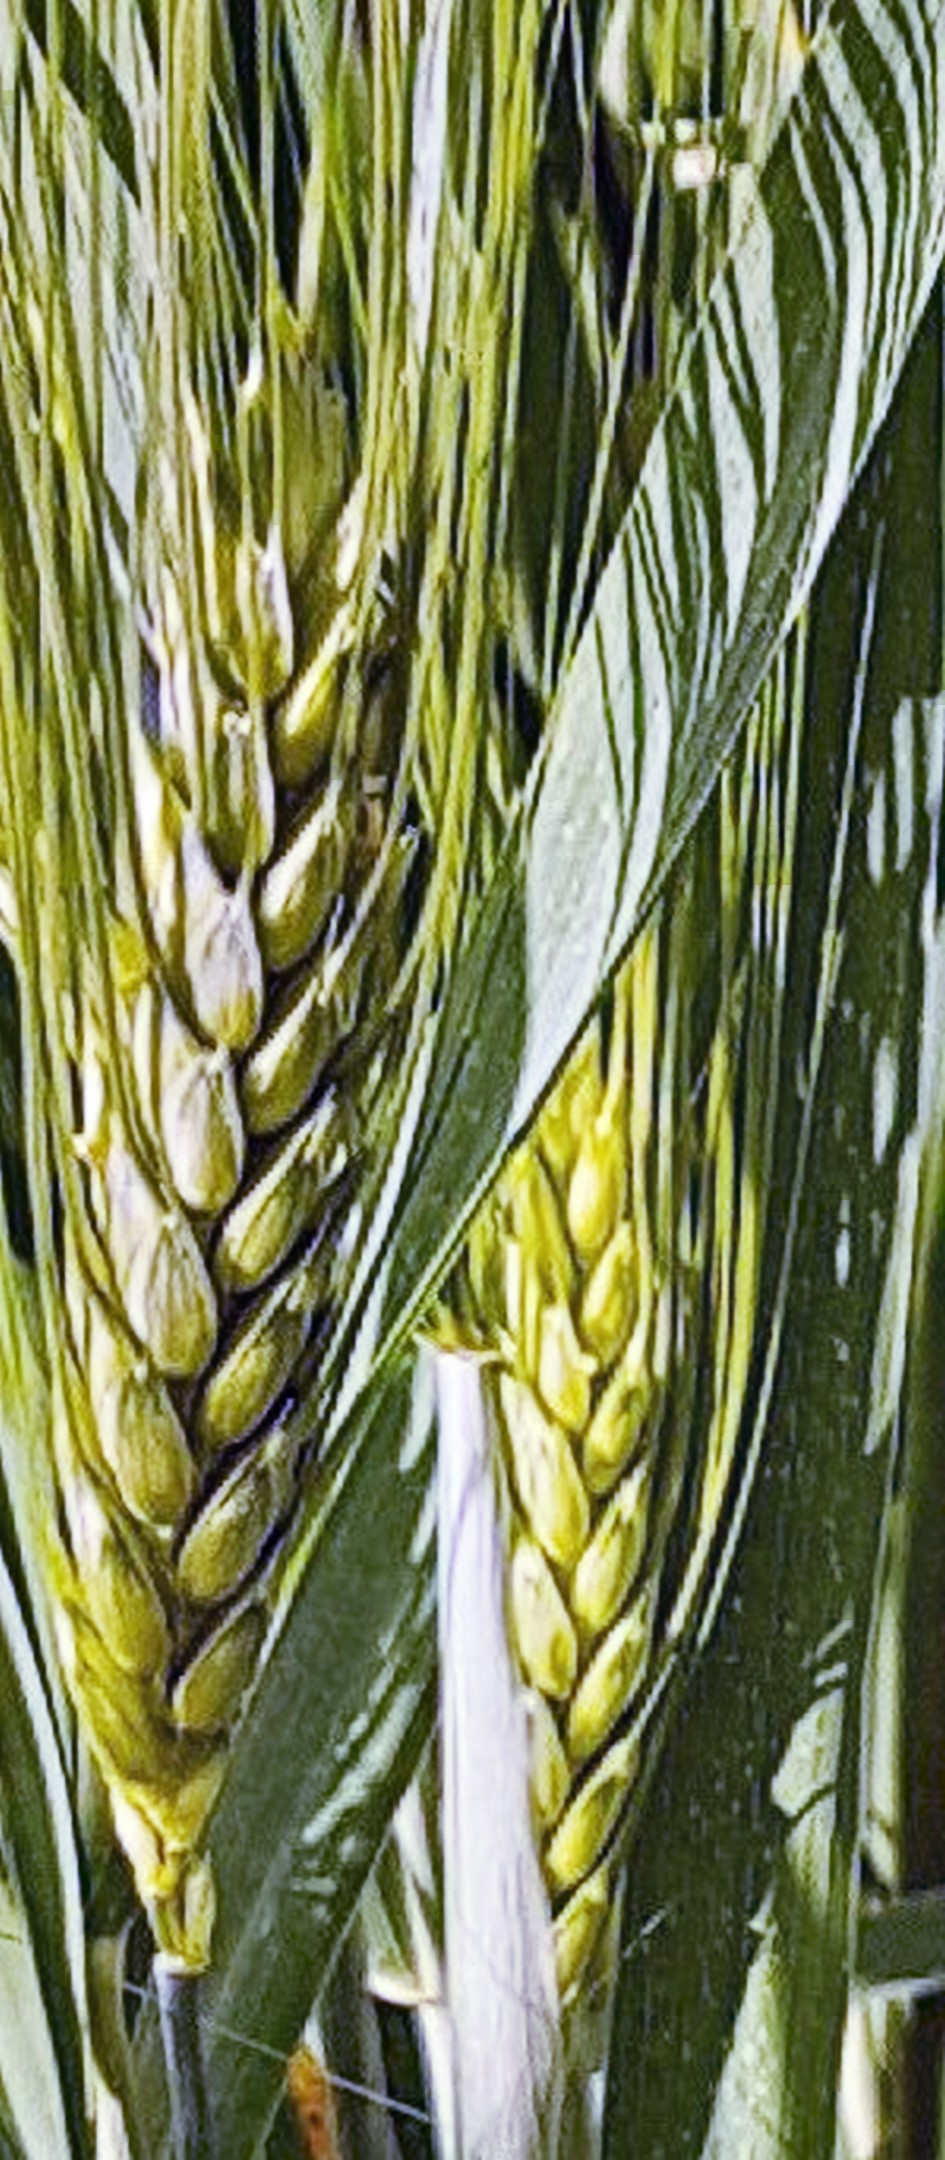Healthy Wheat: (17, 405, 457, 1878)
